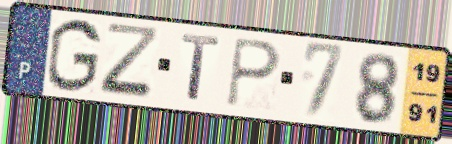7: (297, 41, 345, 124)
8: (354, 51, 402, 126)
G: (44, 16, 104, 95)
P: (225, 35, 283, 109)
T: (180, 31, 223, 105)
Z: (97, 21, 164, 103)
